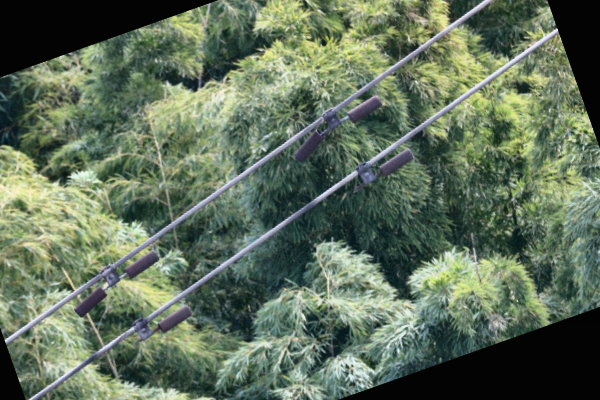damper: (290, 92, 382, 162), (71, 249, 160, 320)
damper_defect: (342, 147, 415, 196), (125, 304, 193, 348)
